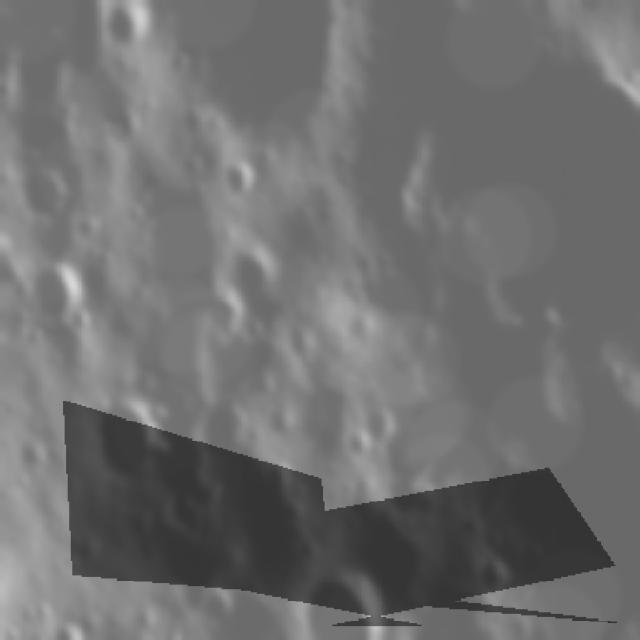crater: (290, 560, 393, 640), (88, 388, 166, 492), (17, 260, 95, 332), (11, 156, 80, 227), (223, 242, 283, 304), (463, 544, 517, 610), (103, 0, 159, 60), (348, 402, 399, 455), (196, 577, 236, 631), (217, 156, 260, 204), (174, 101, 208, 141), (236, 310, 270, 348), (39, 621, 86, 640)
